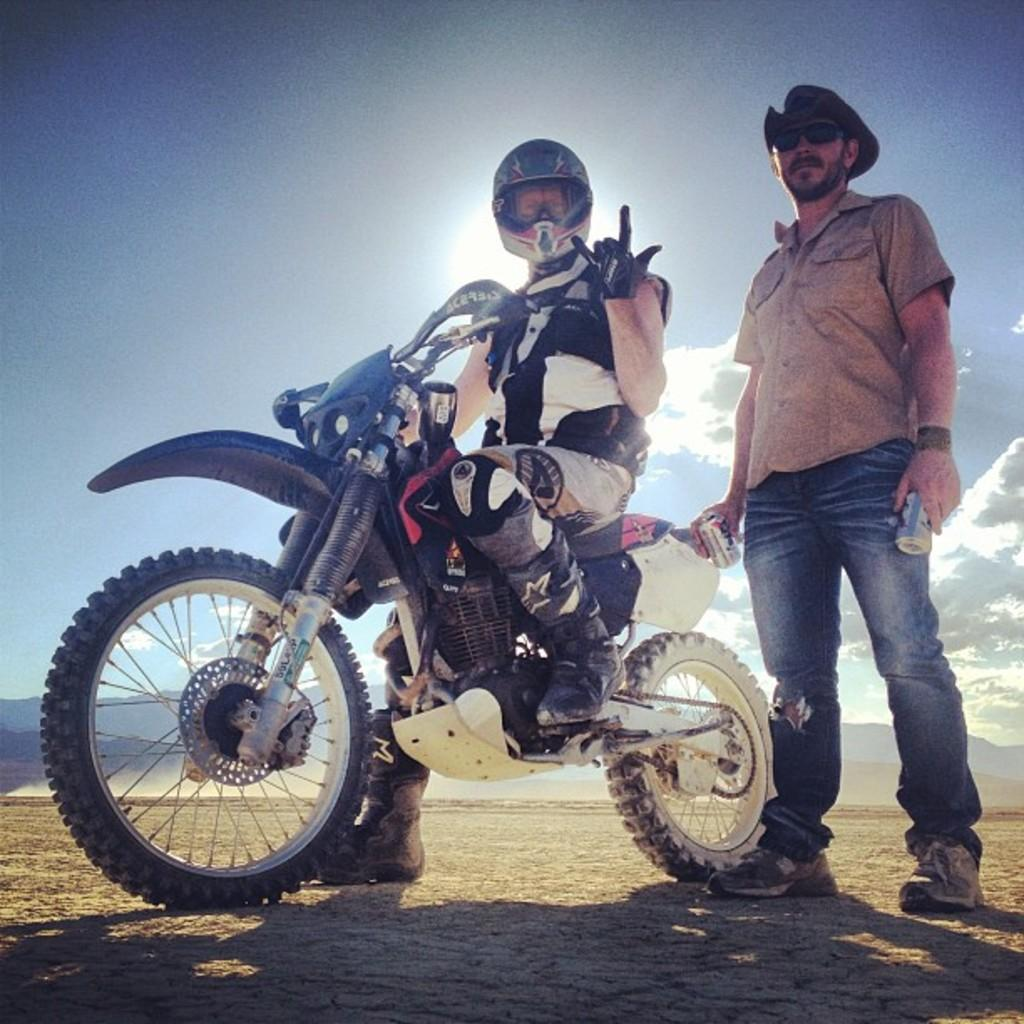helmet: (491, 138, 594, 265)
nohelmet: (763, 84, 880, 208)
